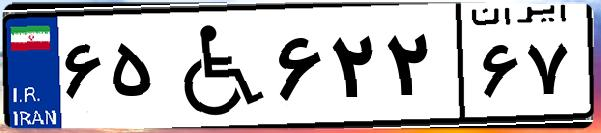2: (385, 28, 445, 110), (330, 28, 385, 110)
5: (110, 28, 158, 98)
6: (270, 28, 330, 110), (57, 26, 110, 100), (475, 38, 525, 113)
7: (525, 38, 570, 115)
ژ (معلولین و جانبازان): (158, 12, 270, 120)
